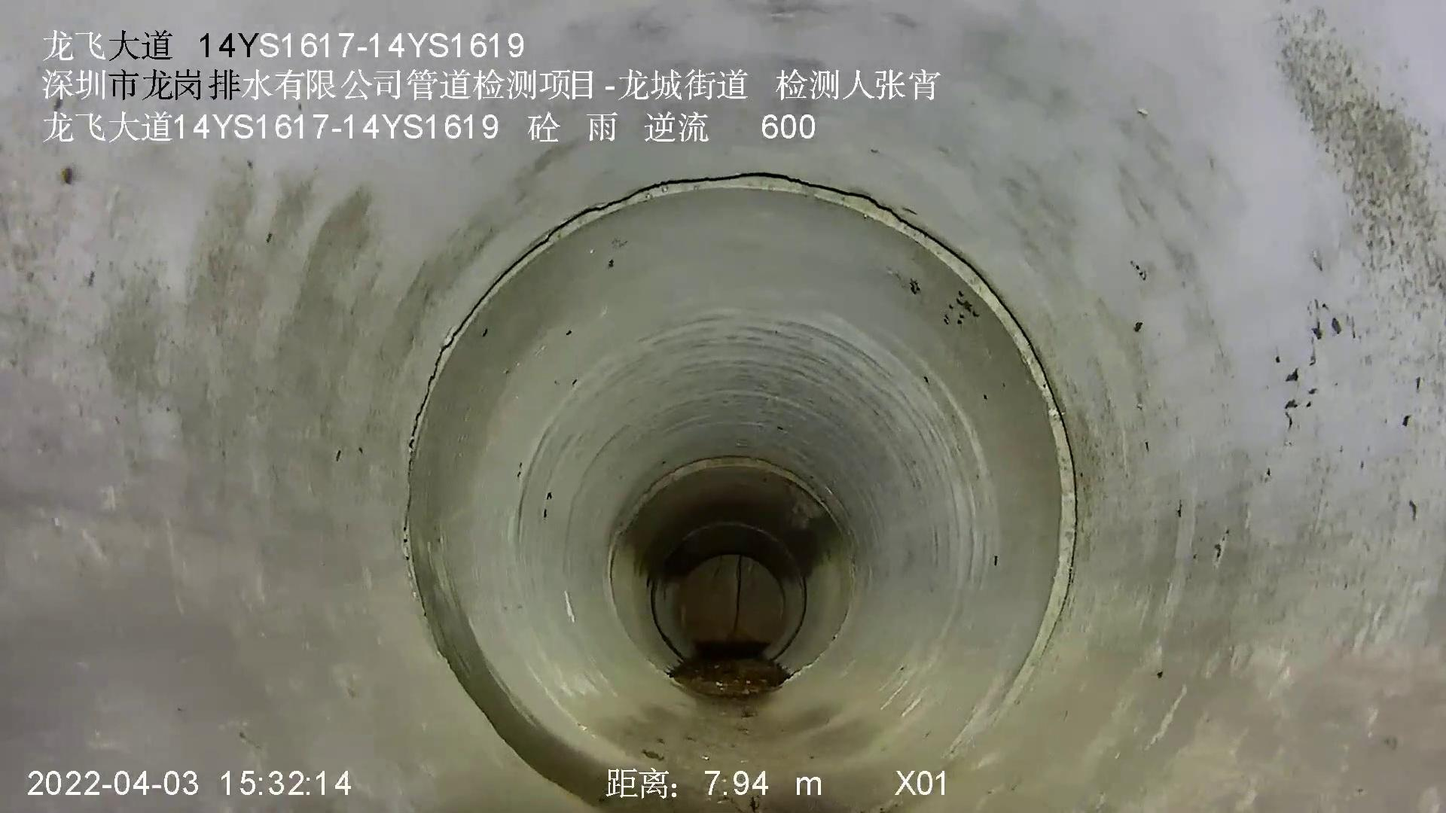CJ: (670, 656, 792, 699)
CKTJ: (414, 175, 1077, 685), (602, 455, 852, 611)
